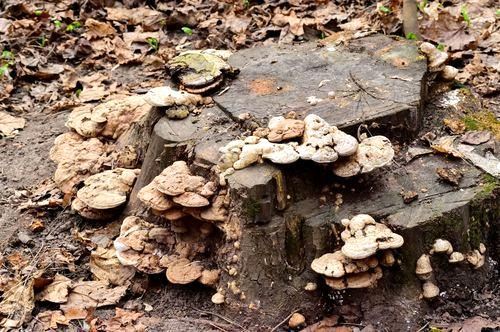Ganoderma - Fruit Body: (222, 111, 397, 180), (308, 214, 403, 294), (120, 227, 221, 287), (140, 159, 218, 222), (417, 237, 491, 302), (54, 99, 138, 156), (172, 47, 234, 92), (77, 164, 129, 209), (142, 86, 198, 113)
